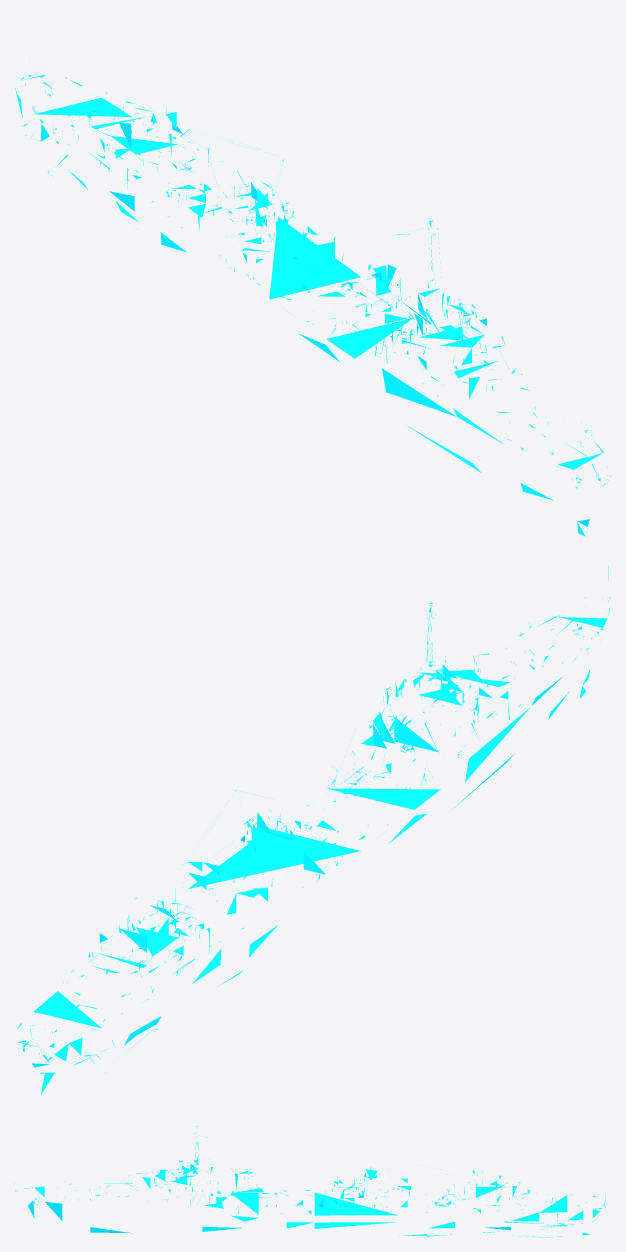
Rendered from Le_Fantasque.glb.
3 renders of one model, top to bottom at view 1: azimuth 30°, elevation 25°; view 2: azimuth 150°, elevation 25°; view 3: azimuth 270°, elevation 25°, orthographic. The views are drawn at different scales.
Size of the model in its own units: 0.8321 by 1.82 by 8.91.
